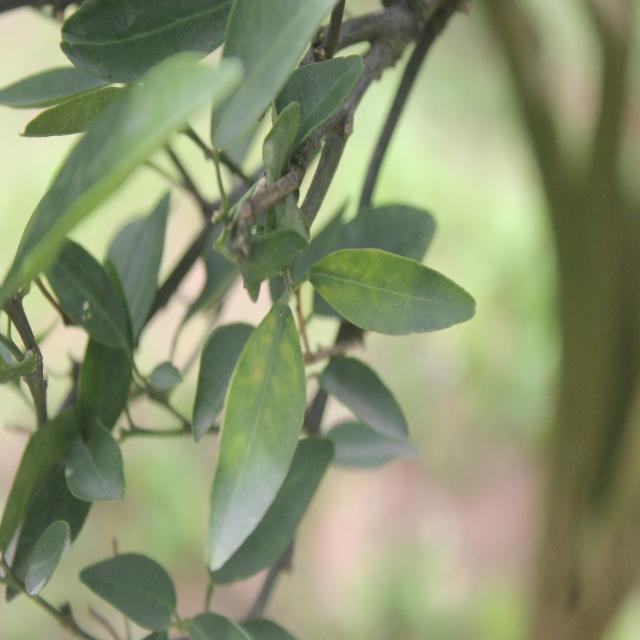greening: (200, 306, 304, 552), (318, 237, 477, 340)
